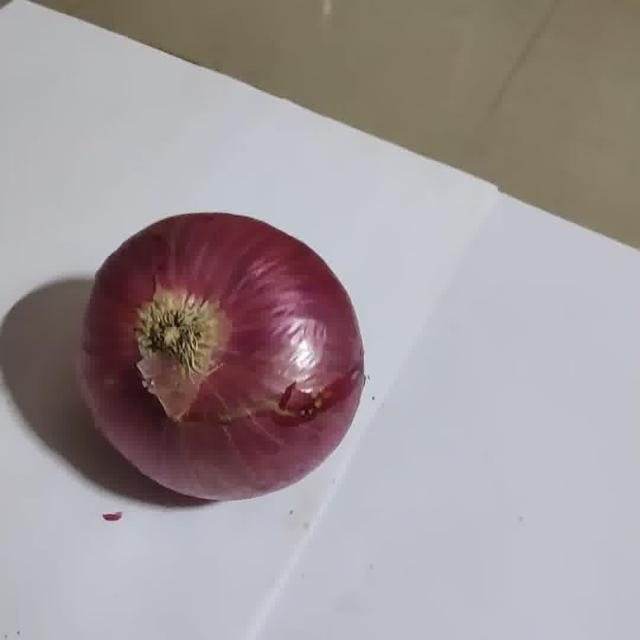Onion: (81, 213, 364, 501)
